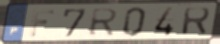0: (120, 6, 148, 38)
4: (153, 6, 176, 37)
7: (61, 7, 89, 38)
F: (28, 9, 57, 38)
R: (87, 8, 121, 38), (180, 7, 212, 36)
